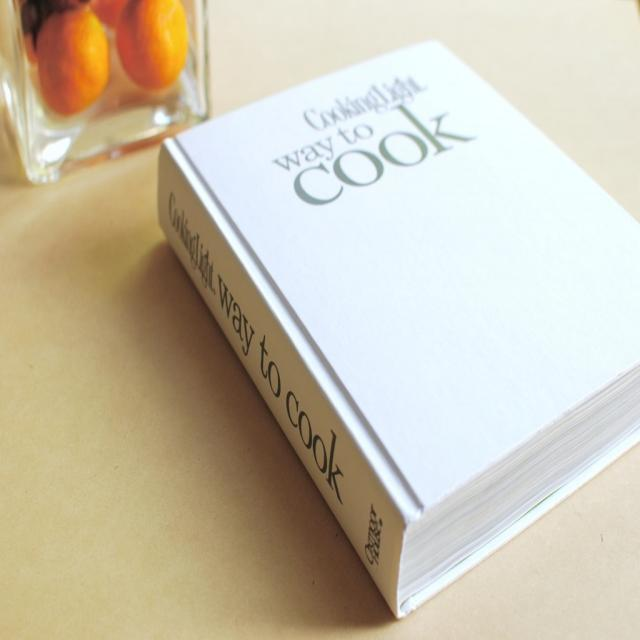book: (161, 33, 640, 640)
